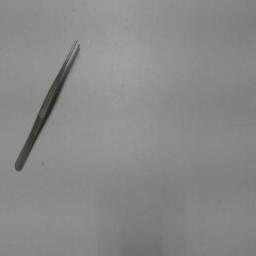Gillies Toothed Dissector: (12, 30, 84, 176)
